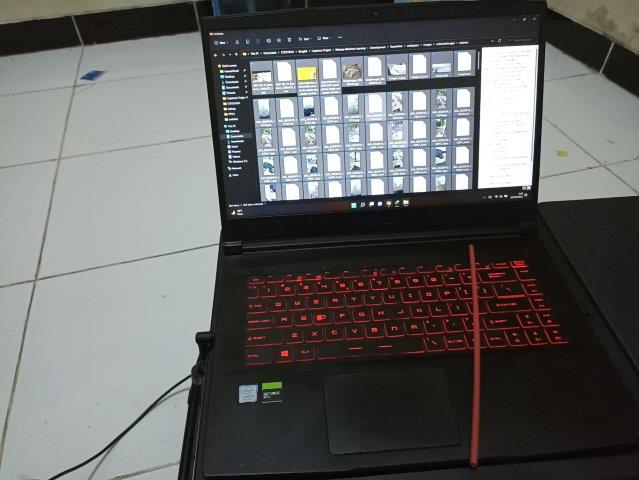sedotan: (468, 246, 480, 465)
